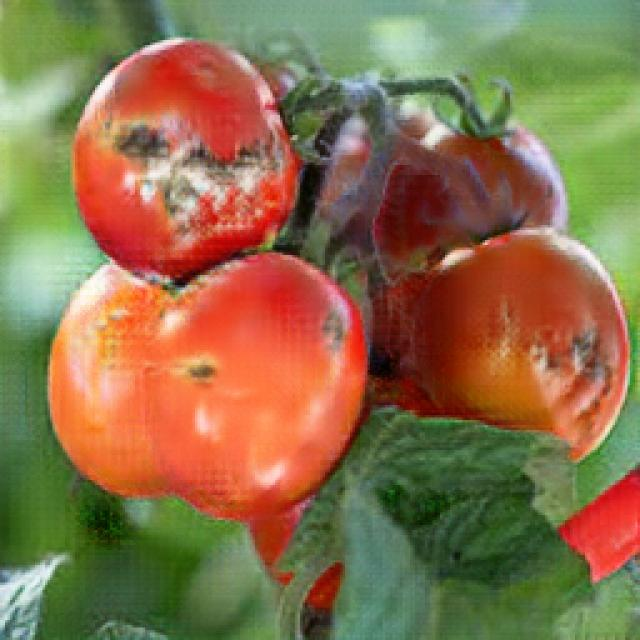overripe tomato: (68, 39, 298, 278), (404, 233, 630, 466), (151, 261, 360, 507)
